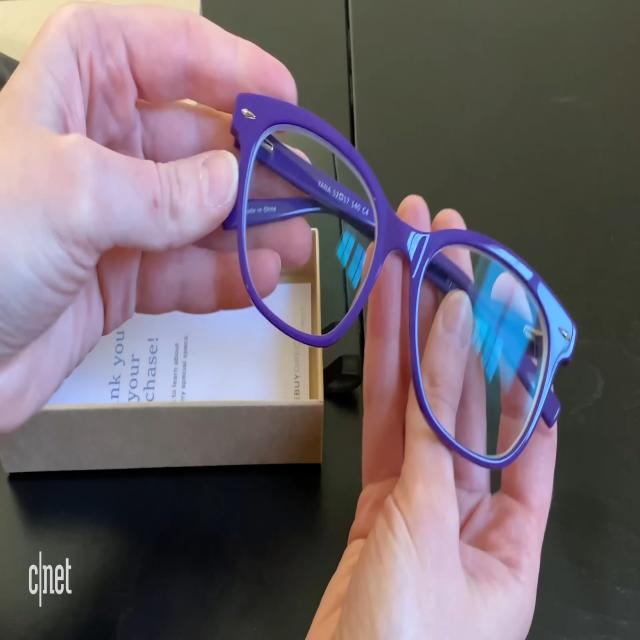glasses: (232, 70, 563, 469)
